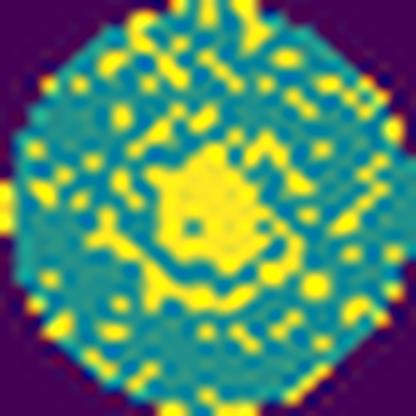Center: (92, 121, 308, 319)
